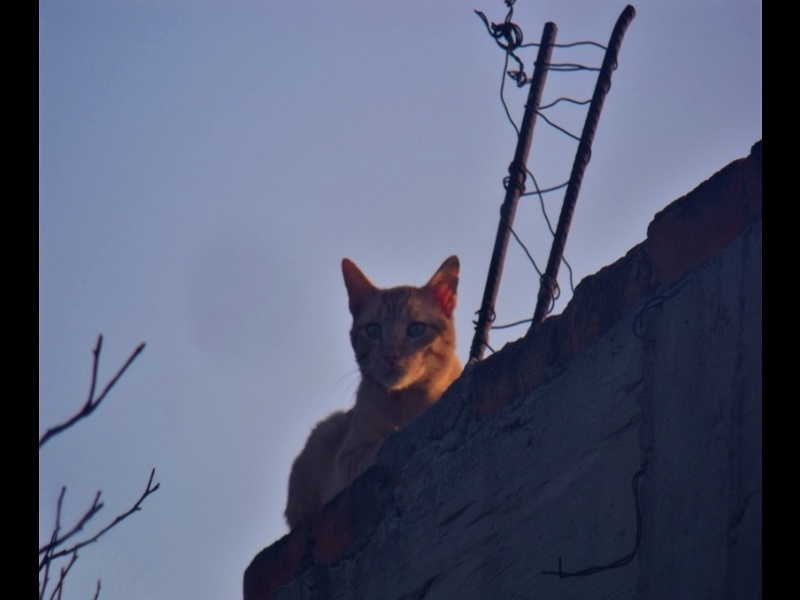cat: (278, 246, 474, 542)
